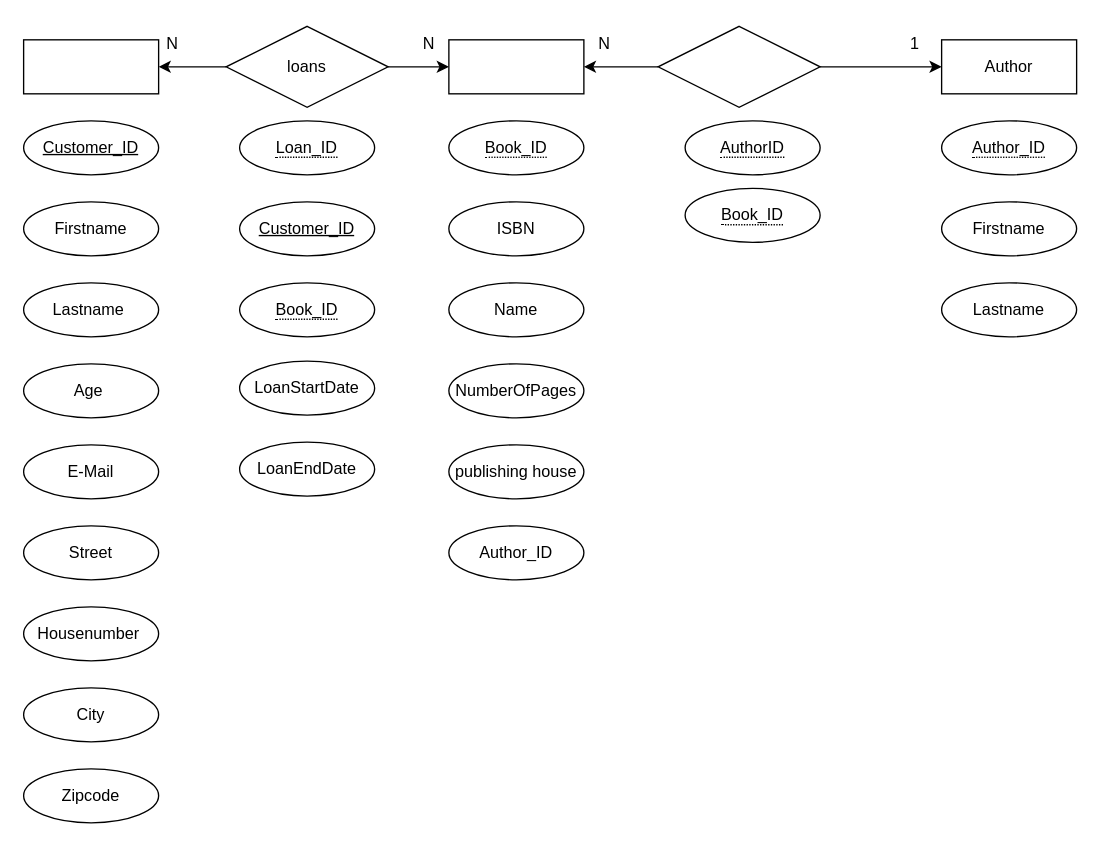
This 1100x846 diagram has some shape labels left out. Each missing label, with the box of its shape:
Books: (448, 38, 584, 94)
Customers: (22, 38, 159, 94)
writes: (657, 25, 820, 107)
